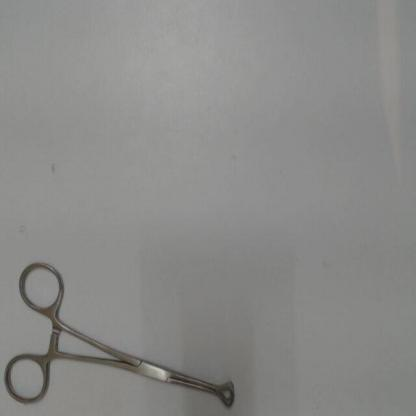Babcock Tissue Forceps: (2, 256, 238, 411)
